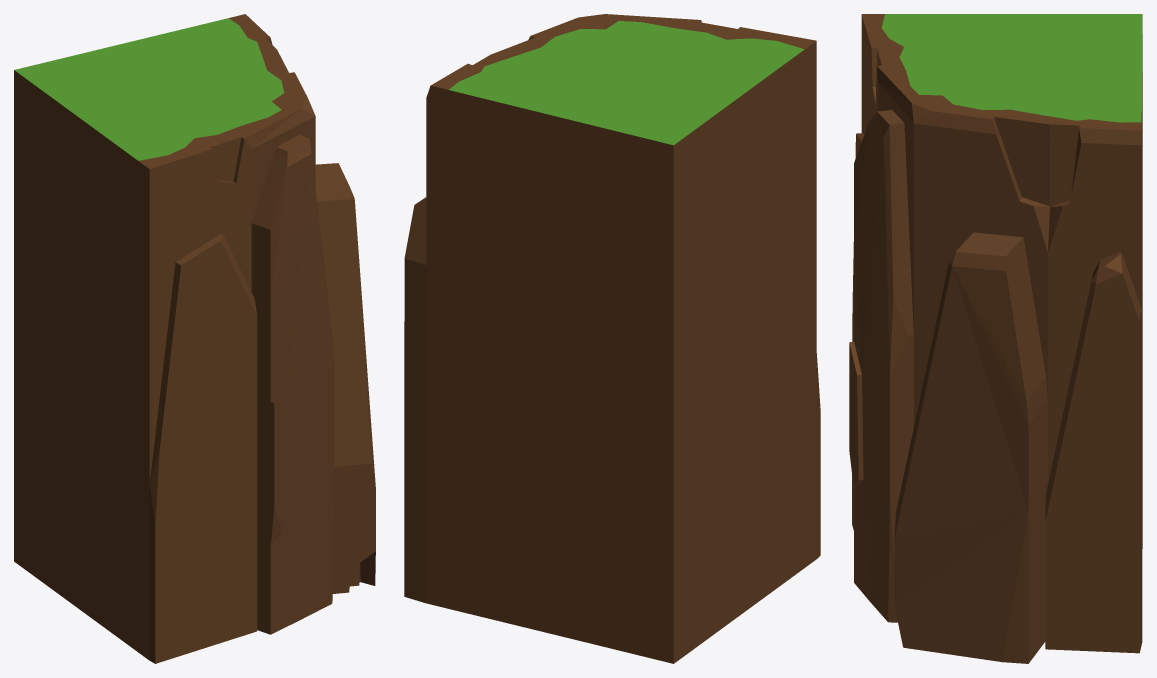
File: Cliff x2 4.fbx
3 views of the same model, side by side, from view 1: azimuth 30°, elevation 25°; view 2: azimuth 150°, elevation 25°; view 3: azimuth 270°, elevation 25° (orthographic). The views are drawn at different scales.
Visible parts, largest first — view 1: Cliff x2 4; view 2: Cliff x2 4; view 3: Cliff x2 4.
Boxes of the visible parts, <box> form: Cliff x2 4: <box>14,14,375,663</box>; Cliff x2 4: <box>404,14,820,663</box>; Cliff x2 4: <box>849,14,1142,663</box>.
Size of the model in its own units: 237 by 400 by 209.
